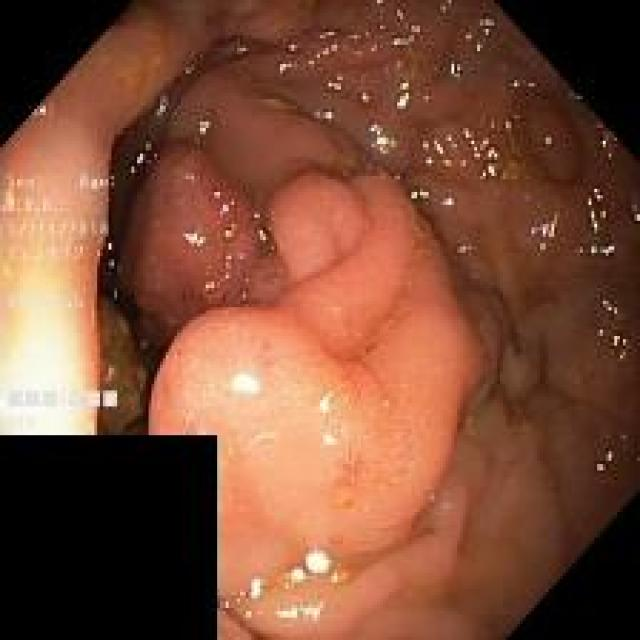Polyps: (121, 71, 482, 633), (528, 102, 581, 182)
